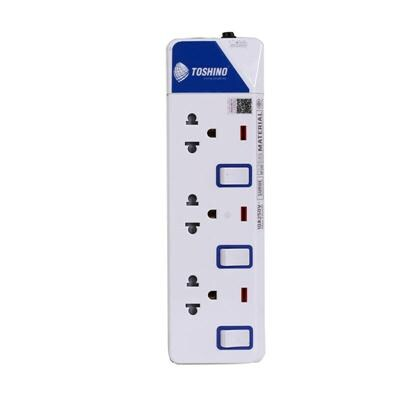Three_eye_plug: (161, 27, 271, 370)
